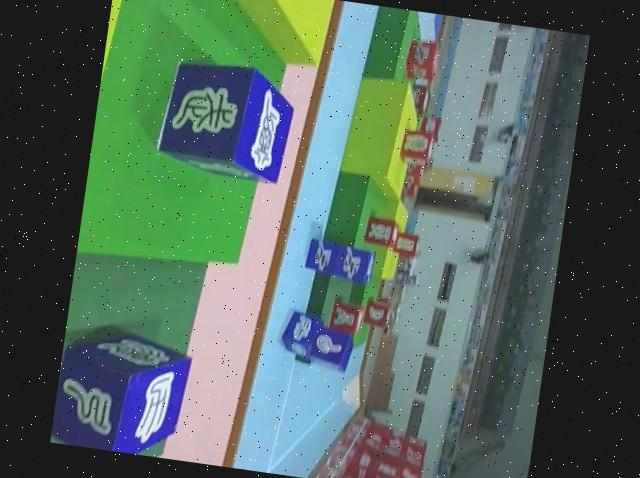R2 Fake Blue: (50, 322, 191, 460), (151, 54, 299, 185)
